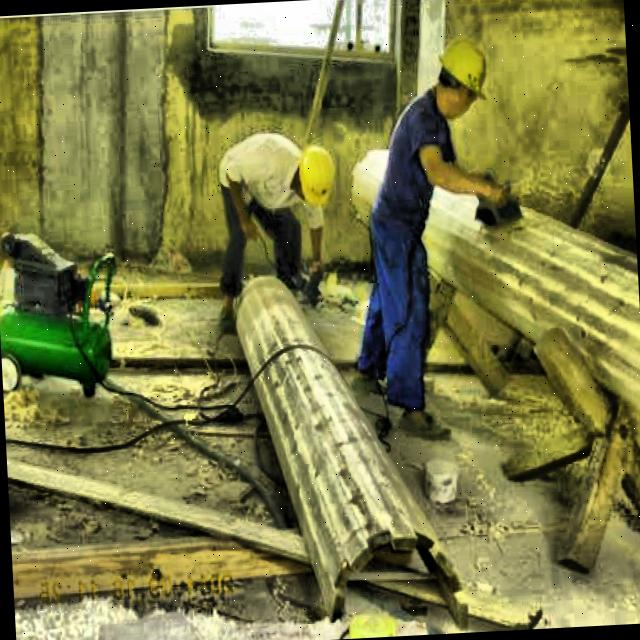helmet: (426, 35, 494, 125), (284, 140, 344, 214)
